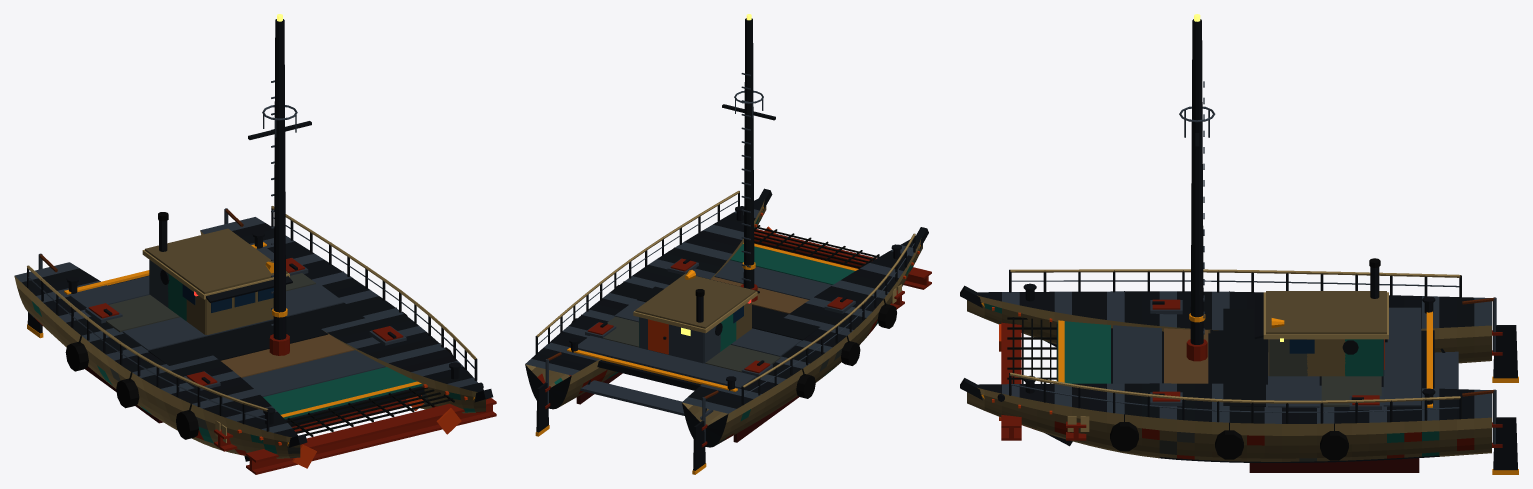
Rendered from tb_ironwake.mobile.glb.
3 views of the same model, side by side, from view 1: azimuth 30°, elevation 25°; view 2: azimuth 150°, elevation 25°; view 3: azimuth 270°, elevation 25° (orthographic). The views are drawn at different scales.
Parts seen in each view (by area): view 1: ironwake_deck, ironwake_hulls, ironwake_wheelhouse, ironwake_mast; view 2: ironwake_hulls, ironwake_deck, ironwake_wheelhouse, ironwake_mast, ironwake_rudder_port, ironwake_rudder_starboard; view 3: ironwake_hulls, ironwake_deck, ironwake_wheelhouse, ironwake_mast, ironwake_rudder_port, ironwake_rudder_starboard.
Part boxes in pixels (bbox=[...]): ironwake_deck: bbox=[27, 206, 496, 474]; ironwake_hulls: bbox=[14, 217, 493, 461]; ironwake_wheelhouse: bbox=[142, 212, 292, 334]; ironwake_mast: bbox=[248, 14, 311, 355]; ironwake_hulls: bbox=[525, 188, 928, 447]; ironwake_deck: bbox=[535, 191, 931, 419]; ironwake_wheelhouse: bbox=[633, 270, 759, 363]; ironwake_mast: bbox=[722, 14, 775, 301]; ironwake_rudder_port: bbox=[692, 390, 718, 474]; ironwake_rudder_starboard: bbox=[535, 352, 561, 436]; ironwake_hulls: bbox=[960, 283, 1491, 472]; ironwake_deck: bbox=[999, 269, 1461, 440]; ironwake_wheelhouse: bbox=[1254, 258, 1388, 376]; ironwake_mast: bbox=[1179, 14, 1215, 361]; ironwake_rudder_port: bbox=[1462, 297, 1518, 382]; ironwake_rudder_starboard: bbox=[1462, 389, 1518, 474].
Size of the model in its own units: 8.18 by 11.28 by 13.85.
